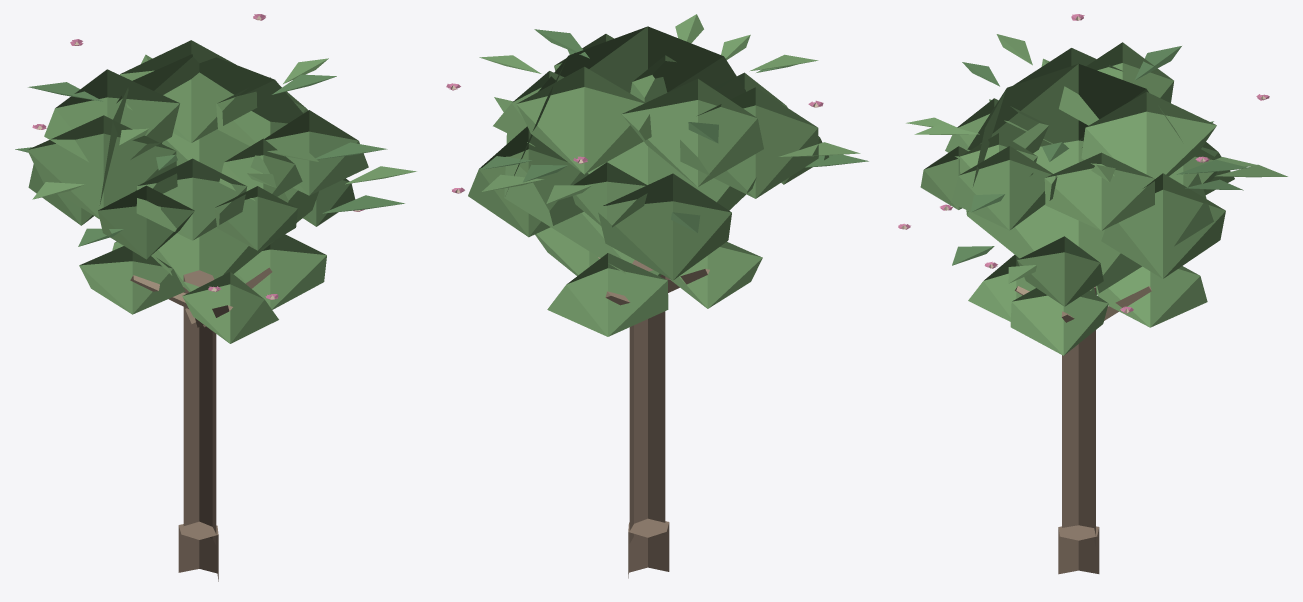
The model's file is shu.longnao@flowering__summer.glb.
The picture shows the model from 3 angles, left to right: view 1: azimuth 30°, elevation 25°; view 2: azimuth 150°, elevation 25°; view 3: azimuth 270°, elevation 25°; orthographic projection. The views are drawn at different scales.
Parts seen in each view (by area): view 1: shu.longnao@flowering__summer; view 2: shu.longnao@flowering__summer; view 3: shu.longnao@flowering__summer.
Part boxes in pixels (x1,y1,x2,y2): shu.longnao@flowering__summer: (15, 14, 416, 581); shu.longnao@flowering__summer: (446, 14, 868, 578); shu.longnao@flowering__summer: (898, 14, 1287, 574).
Bounding box in the file's own units: 21.86 × 29.23 × 20.37.
